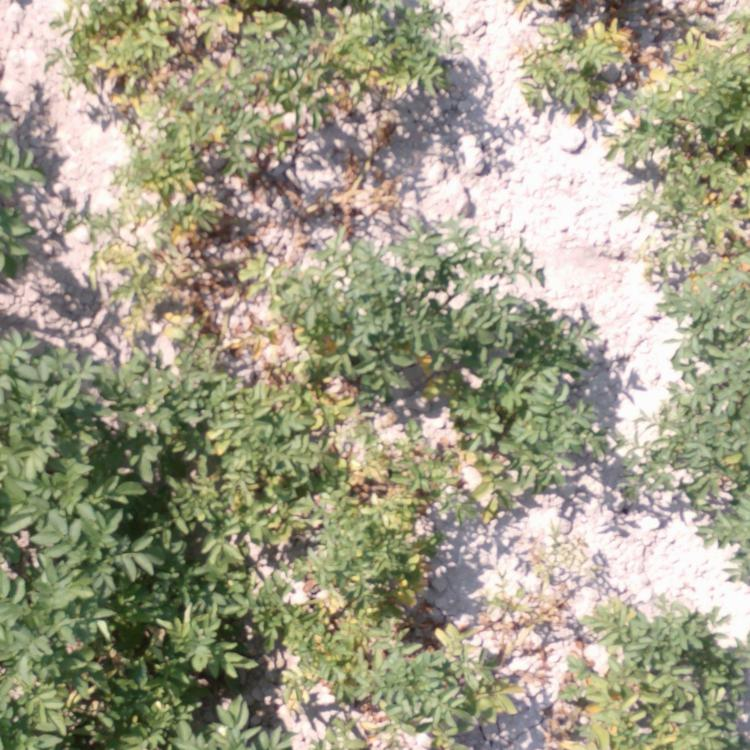healthy: (1, 608, 271, 750), (1, 464, 197, 602), (1, 328, 167, 467), (350, 232, 498, 342), (505, 305, 606, 445), (681, 362, 750, 560), (1, 92, 47, 285), (605, 410, 684, 517)
stressed: (538, 603, 750, 750), (311, 436, 459, 607), (62, 200, 238, 321), (172, 320, 309, 463), (647, 187, 750, 361), (61, 1, 231, 92), (509, 8, 639, 125), (275, 611, 382, 750), (386, 652, 536, 750), (103, 94, 238, 201), (316, 1, 438, 111), (358, 339, 501, 430), (238, 2, 314, 172), (204, 469, 300, 599), (647, 14, 750, 125), (465, 444, 573, 524), (610, 126, 750, 185), (391, 610, 537, 648), (251, 263, 353, 317), (312, 342, 355, 434)
